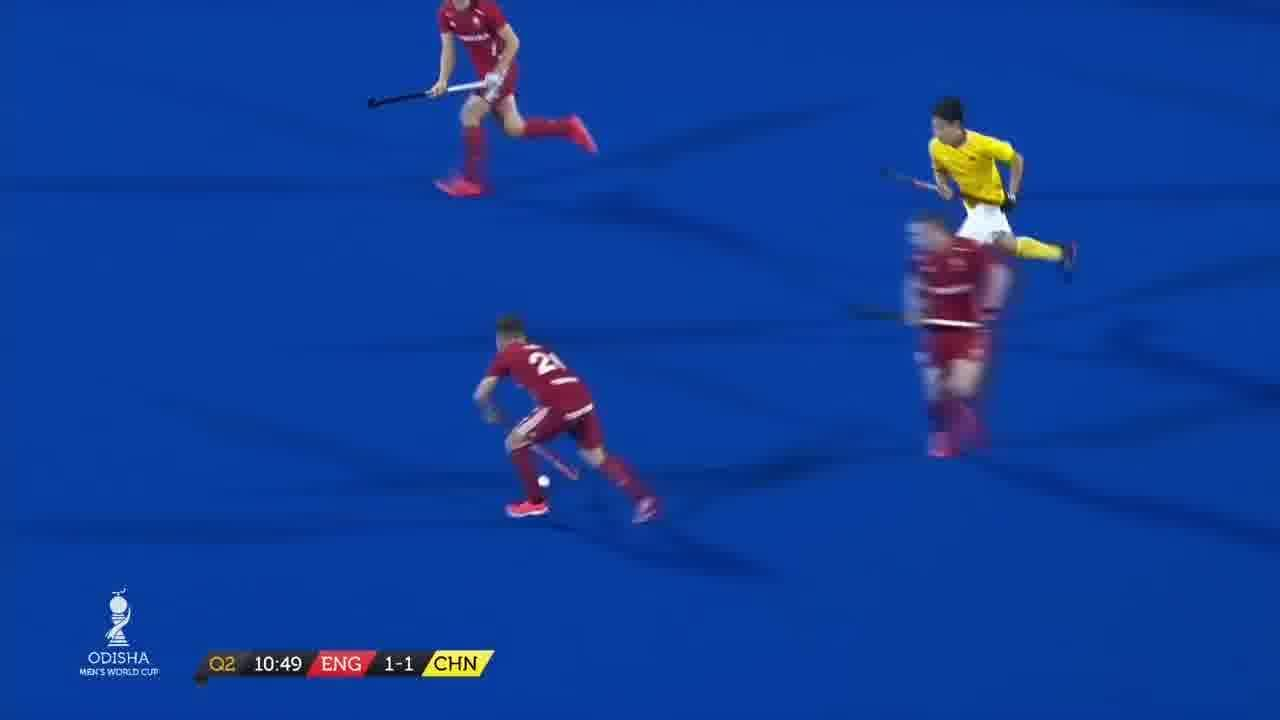ball: (534, 474, 562, 488)
